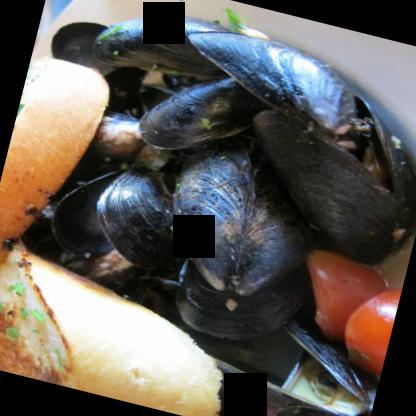mussel: (222, 86, 415, 274), (144, 139, 320, 298), (188, 18, 386, 134), (139, 68, 268, 164)
